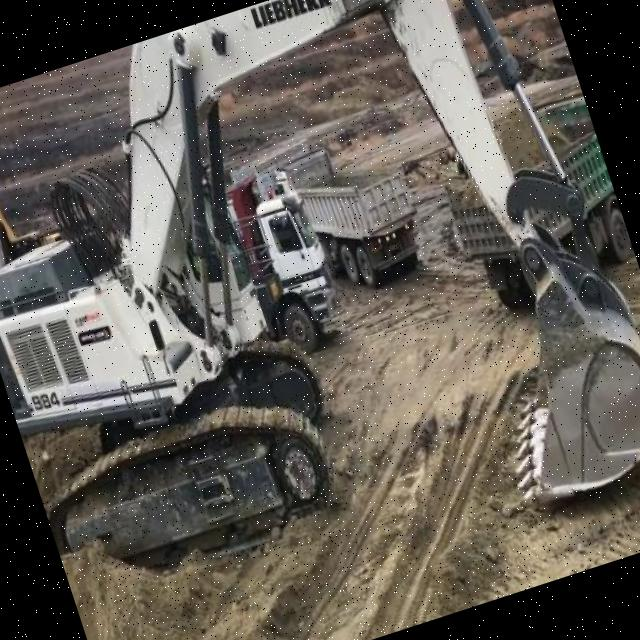Dump Truck: (436, 92, 638, 312), (286, 117, 435, 304), (219, 164, 350, 360)
Excavator: (0, 0, 640, 640)
